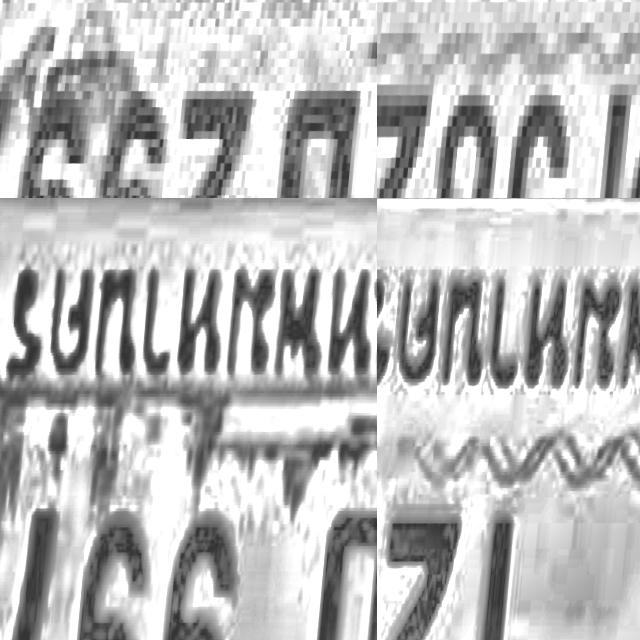license-plate: (0, 198, 377, 640), (377, 198, 640, 640), (0, 0, 377, 198), (377, 0, 640, 198)
